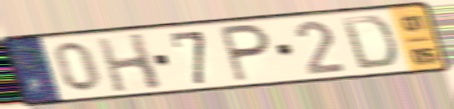0: (52, 39, 106, 95)
2: (293, 19, 348, 77)
7: (167, 29, 208, 86)
D: (338, 14, 400, 72)
H: (93, 31, 166, 94)
P: (217, 22, 274, 84)
